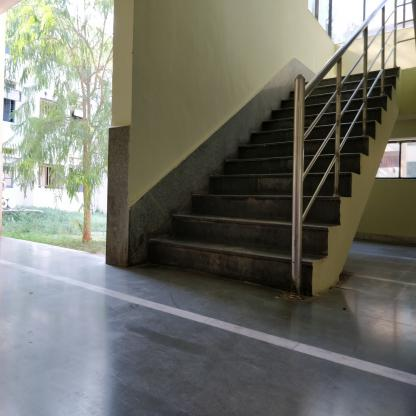stairs: (239, 147, 290, 293)
